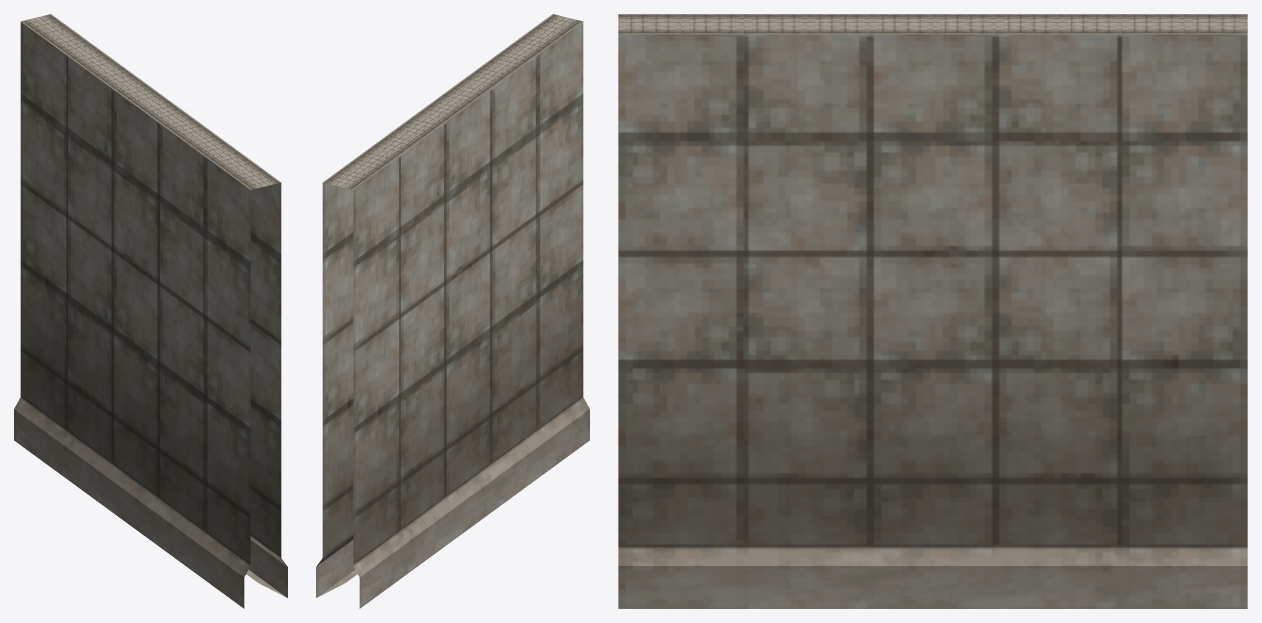
File: NYANYANYAfungerandevägg.fbx
3 views of the same model, side by side, from view 1: azimuth 30°, elevation 25°; view 2: azimuth 150°, elevation 25°; view 3: azimuth 270°, elevation 25° (orthographic). The views are drawn at different scales.
Parts seen in each view (by area): view 1: wall_pice_Straight6; view 2: wall_pice_Straight6; view 3: wall_pice_Straight6.
Boxes of the visible parts, <box> form: wall_pice_Straight6: <box>14,14,287,608</box>; wall_pice_Straight6: <box>316,14,589,608</box>; wall_pice_Straight6: <box>618,14,1247,608</box>.
Size of the model in its own units: 0.1092 by 1 by 1.
1 material, 1 textured.
